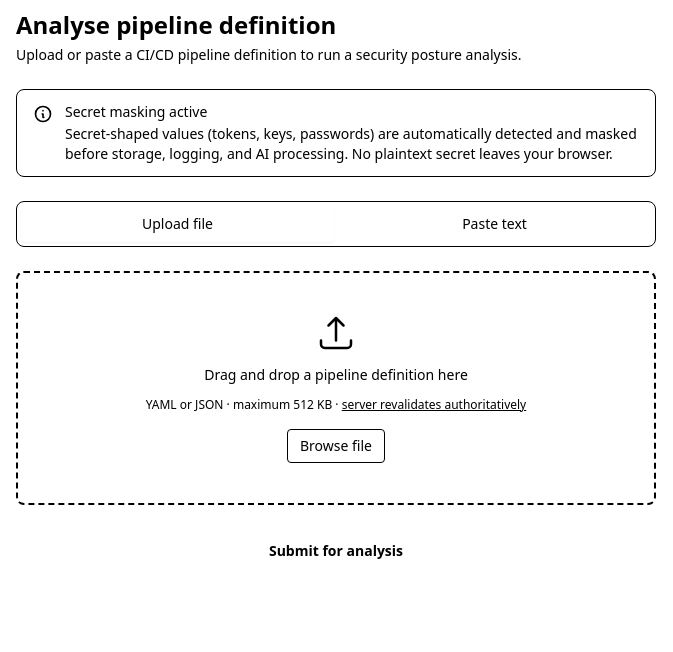
it: Keyboard operability › can navigate to paste tab and submit using keyboard
The width and height of the screenshot is (673, 652).
// Tab to the "Paste text" tab button and activate it
Press Tab
Press Enter
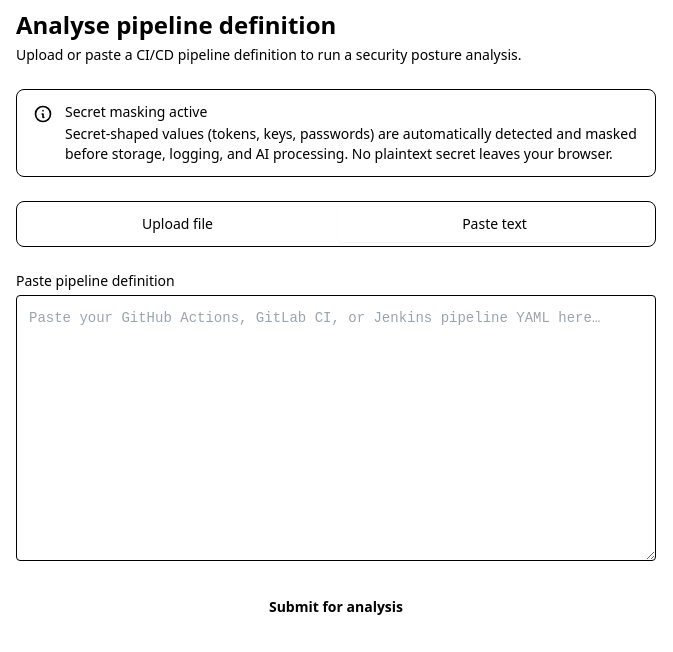
// Type some content
Type "name: CI on: push jobs:   build:     runs-on: ubuntu-latest     steps:       - uses: actions/checkout@v3" into the text box labelled "Paste pipeline definition".
click(336, 428); type("name: CI on: push jobs:   build:     runs-on: ubuntu-latest     steps:       - uses: actions/checkout@v3")  # box [16,295,656,561]
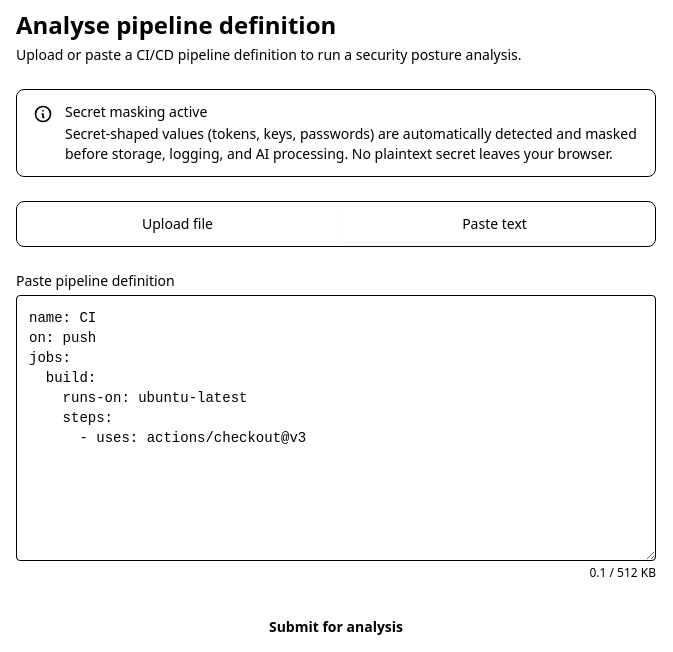
// Tab to submit button
Press Tab
Press Enter
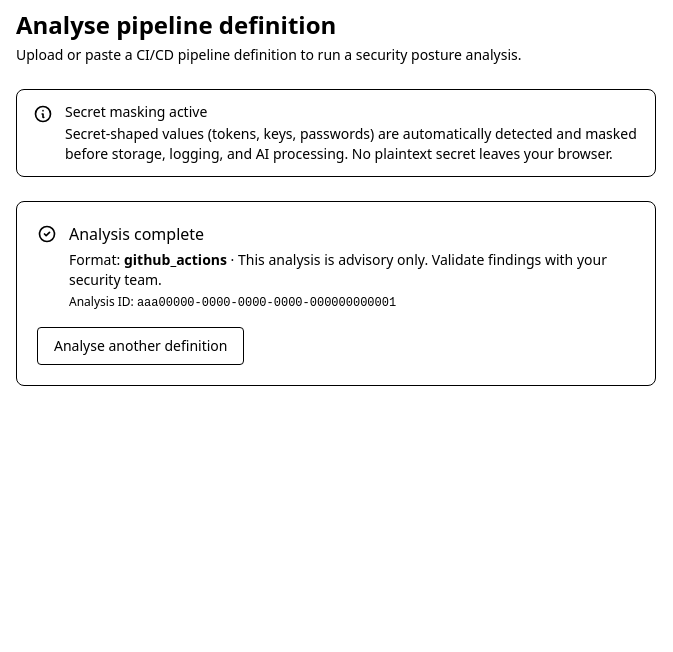
Now the message "Analysis complete" is shown, box [16,201,656,386]
